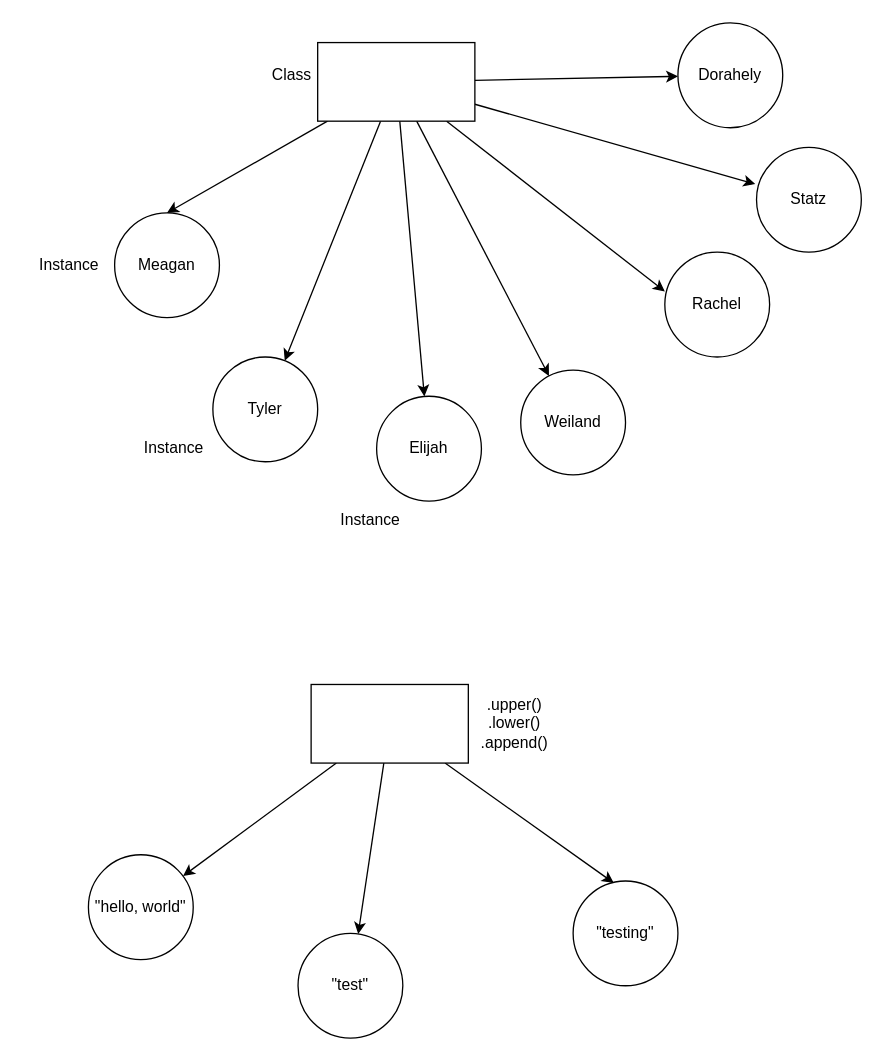
This 884x1061 diagram has some shape labels left out. The shapes that lost their labels are listed below. From the top down, each one's box as (x1, y1, x2, y2) in pixels, then its label:
(316, 41, 475, 121): Human DNA
(310, 683, 468, 763): str
